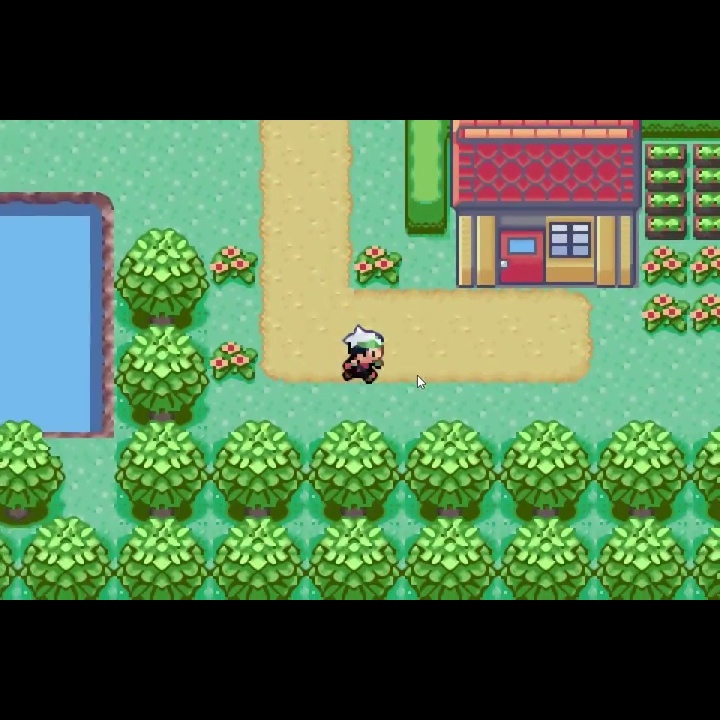house: (447, 119, 644, 290)
npc: (341, 323, 387, 388)
wall: (401, 419, 499, 528), (593, 417, 690, 524), (114, 326, 212, 430), (114, 226, 213, 328), (500, 418, 595, 524), (308, 419, 402, 526), (115, 422, 213, 522), (214, 421, 308, 524), (18, 518, 115, 600), (401, 518, 498, 600), (498, 518, 595, 600), (116, 517, 210, 600), (594, 518, 689, 600), (211, 520, 307, 600), (307, 518, 401, 599), (1, 420, 67, 528), (690, 416, 720, 525), (689, 517, 720, 599)
